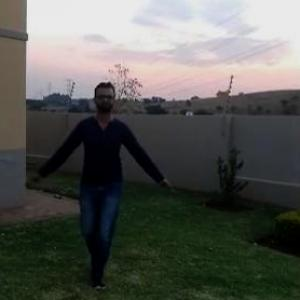land: (48, 92, 154, 275)
